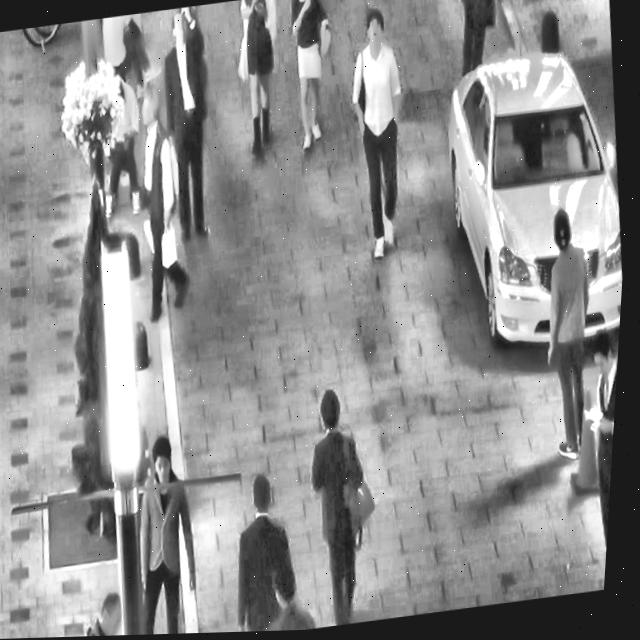light_vehicle: (423, 26, 638, 371)
